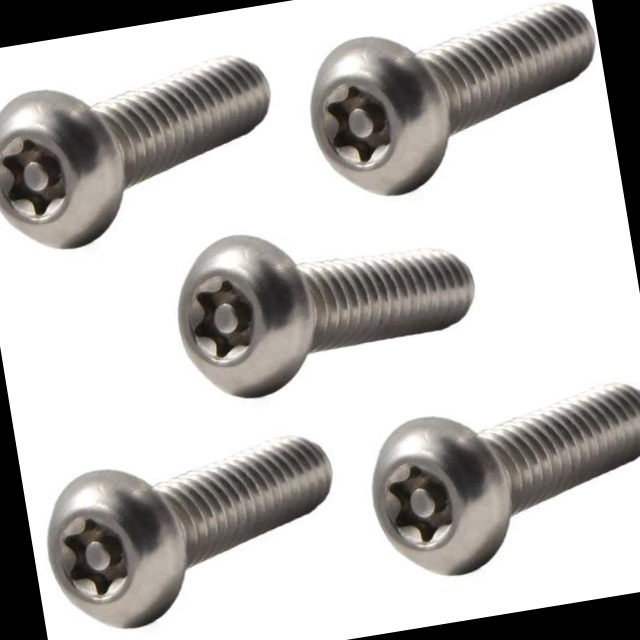torx: (297, 24, 460, 210), (359, 404, 518, 589), (164, 226, 322, 410), (36, 457, 193, 640), (0, 76, 129, 259)
